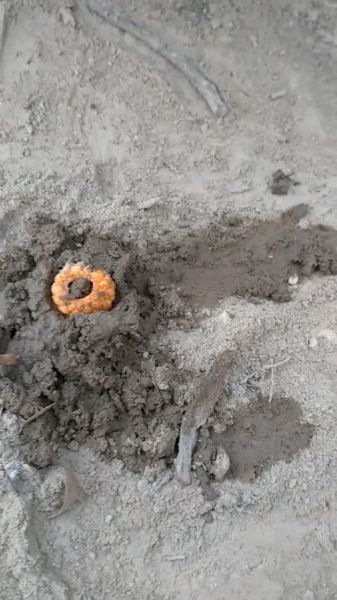eggs: (46, 261, 120, 319)
